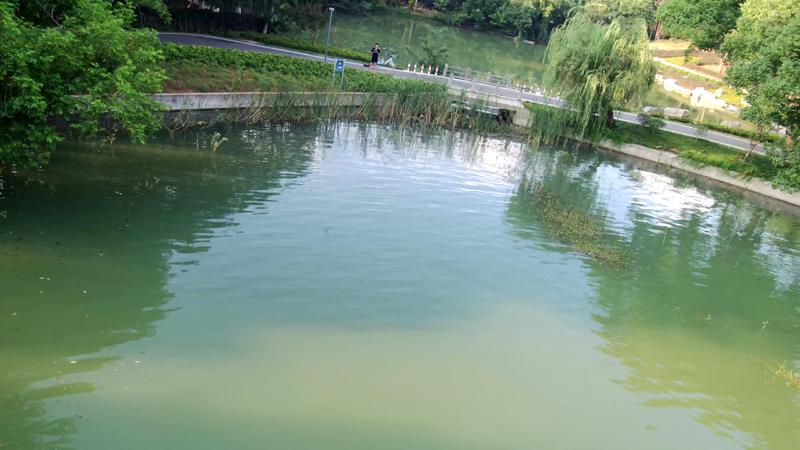passerby: (366, 41, 381, 73)
